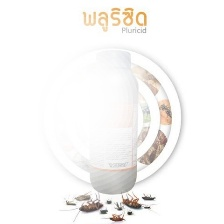insecticide: (84, 47, 141, 195)
